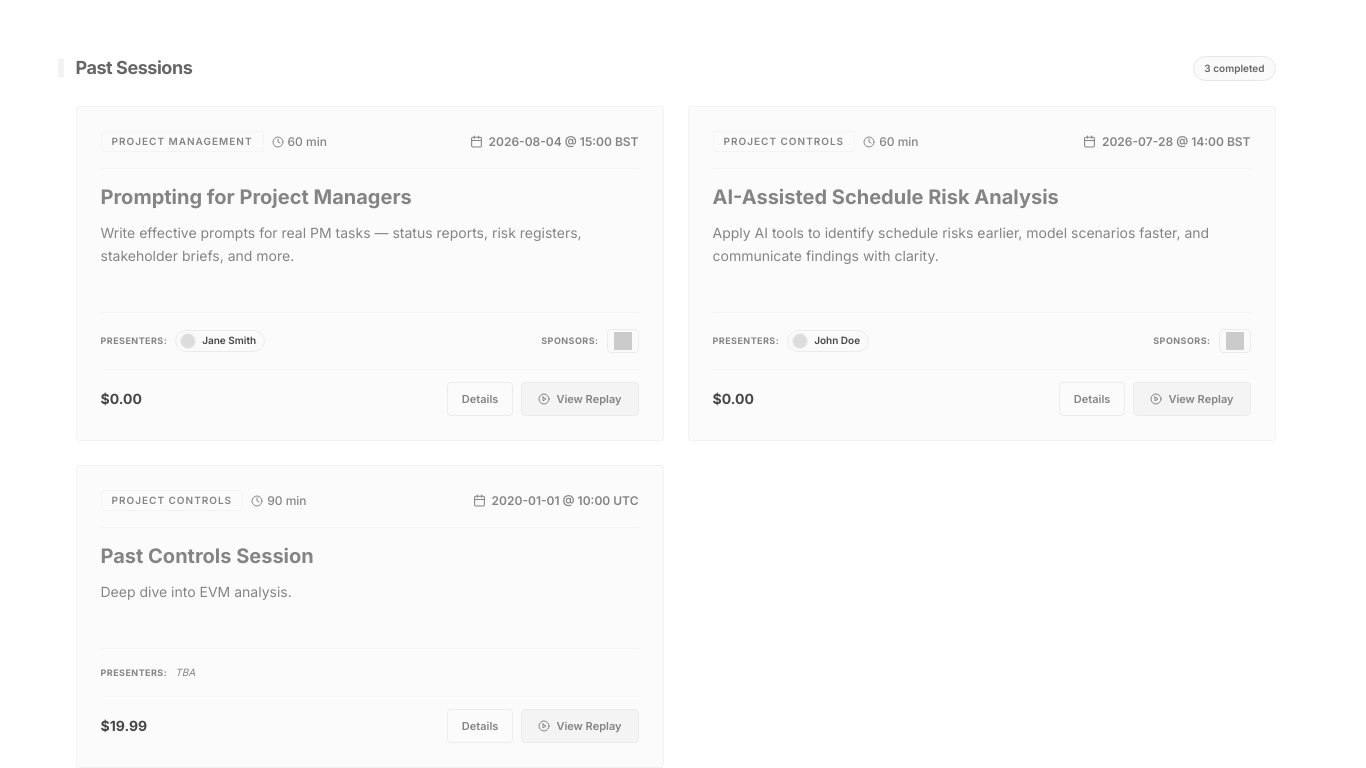
Test: SessionsList Pricing Display › renders replay price for past sessions inside modal
The image size is (1366, 768).
(page scrolled)
Note: Open session modal by clicking title
Click the button "Past Controls Session" at (207, 556), box top-left (100, 544), bottom-right (314, 569)
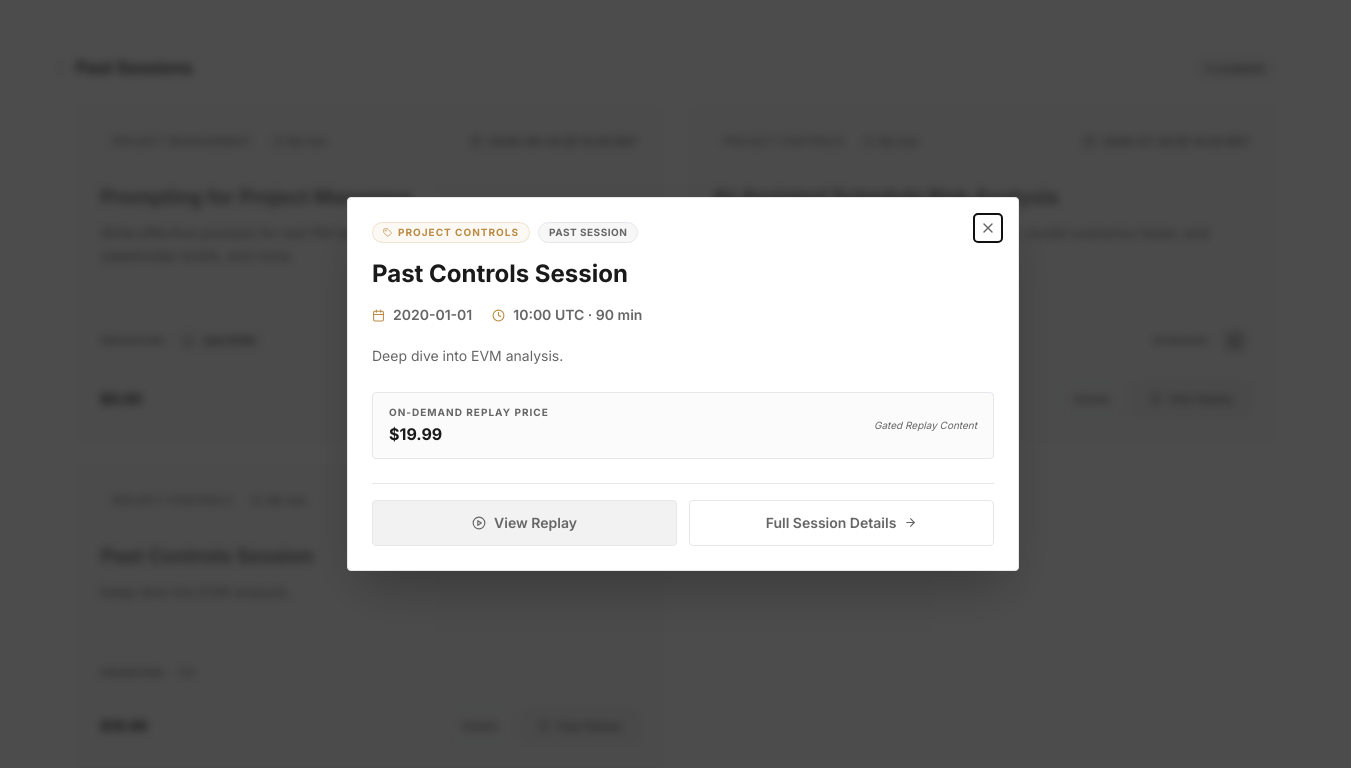
Expected: the text "On-Demand Replay Price" is shown, top-left (389, 405), bottom-right (549, 420)
Expected: the text "$19.99" is shown, top-left (389, 424), bottom-right (442, 444)
Expected: the text "Gated Replay Content" is shown, top-left (874, 418), bottom-right (977, 433)
